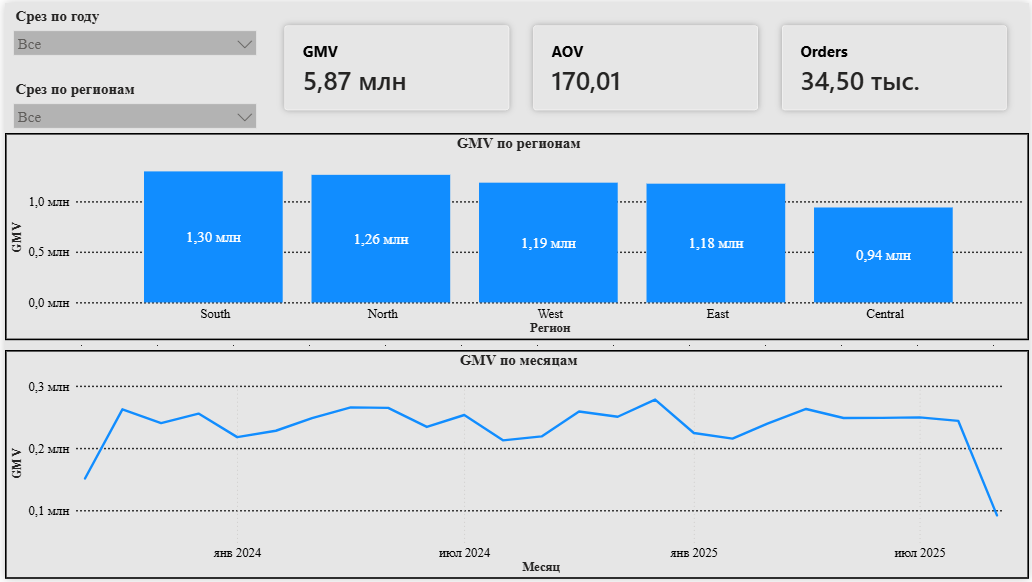

This screenshot's page, from the dashboard's own definition file:
{"tool":"powerbi","page":{"name":"Overview","canvas":[1280,720],"ordinal":0},"visuals":[{"type":"cardVisual","fields":{"Data":["clean_orders.GMV","clean_orders.AOV","clean_orders.Orders"]},"box":[321.2,0,959,162],"z":0},{"type":"slicer","fields":{"Values":["clean_orders.region"]},"box":[0,91,325,71],"z":1000},{"type":"slicer","fields":{"Values":["clean_orders.Year"]},"box":[0,0,325,91.2],"z":2000},{"type":"clusteredColumnChart","title":"GMV по регионам","fields":{"Category":["clean_orders.region"],"Y":["clean_orders.GMV"]},"box":[0,162.5,1280,258.8],"z":3000},{"type":"lineChart","title":"GMV по месяцам","fields":{"Y":["clean_orders.GMV"],"Category":["clean_orders.YearMonth"]},"box":[0,433.8,1280,286.2],"z":4000}]}

Visuals, with their boxes in screenshot pixels (x1, y1, x2, y2), scaled from the page's 1280x720 canvas onto the 1032x582 screenshot:
cardVisual - clean_orders.GMV x clean_orders.AOV: box=[259, 0, 1031, 131]
slicer - clean_orders.region: box=[0, 74, 262, 131]
slicer - clean_orders.Year: box=[0, 0, 262, 74]
"GMV по регионам" clusteredColumnChart: box=[0, 131, 1031, 341]
"GMV по месяцам" lineChart: box=[0, 351, 1031, 581]
